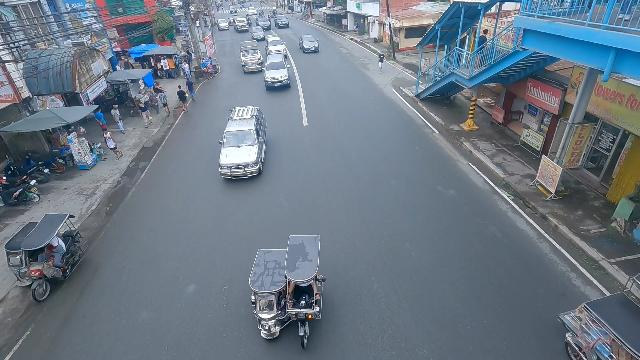car: (217, 107, 269, 181), (263, 54, 291, 91), (264, 35, 289, 59), (298, 34, 319, 54), (274, 13, 290, 29), (250, 26, 266, 41), (255, 15, 271, 30), (216, 18, 230, 31), (247, 6, 257, 16)
jeepney: (239, 40, 263, 75), (233, 16, 249, 33)
motorcycle: (271, 9, 278, 19)
